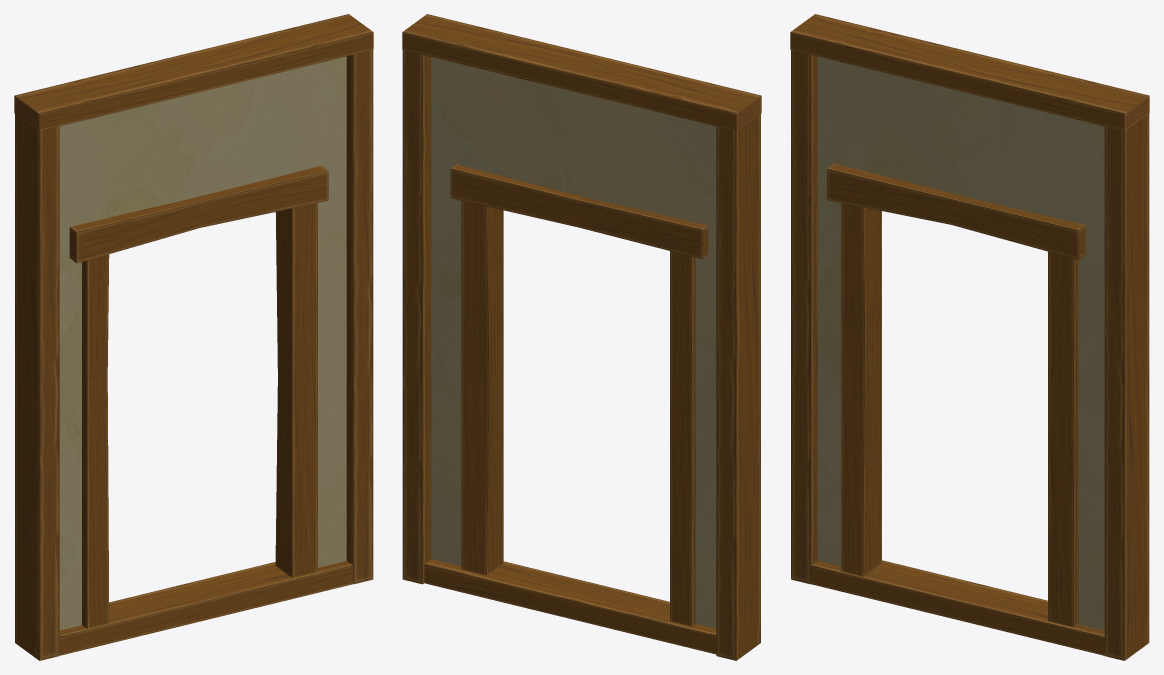
The model's file is SM_House_Wall_Interior_2_5x4_02.fbx.
3 renders of one model, left to right at view 1: azimuth 30°, elevation 25°; view 2: azimuth 150°, elevation 25°; view 3: azimuth 330°, elevation 25°, orthographic.
Visible parts, largest first — view 1: SM_House_Wall_Interior_2_5x4_02; view 2: SM_House_Wall_Interior_2_5x4_02; view 3: SM_House_Wall_Interior_2_5x4_02.
Boxes of the visible parts, left/top/right/bottom form: SM_House_Wall_Interior_2_5x4_02: left=14, top=14, right=373, bottom=660; SM_House_Wall_Interior_2_5x4_02: left=402, top=14, right=761, bottom=660; SM_House_Wall_Interior_2_5x4_02: left=790, top=14, right=1149, bottom=660.
Bounding box in the file's own units: 2.5 × 3.91 × 0.3284.
